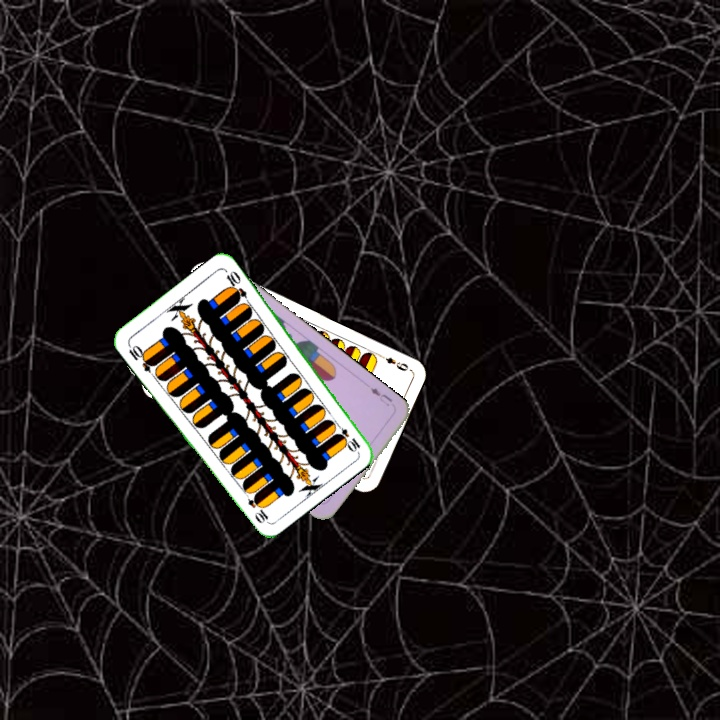E10: (124, 340, 157, 375), (331, 418, 363, 454)
E9: (376, 350, 411, 374)
EU: (366, 383, 395, 409)
